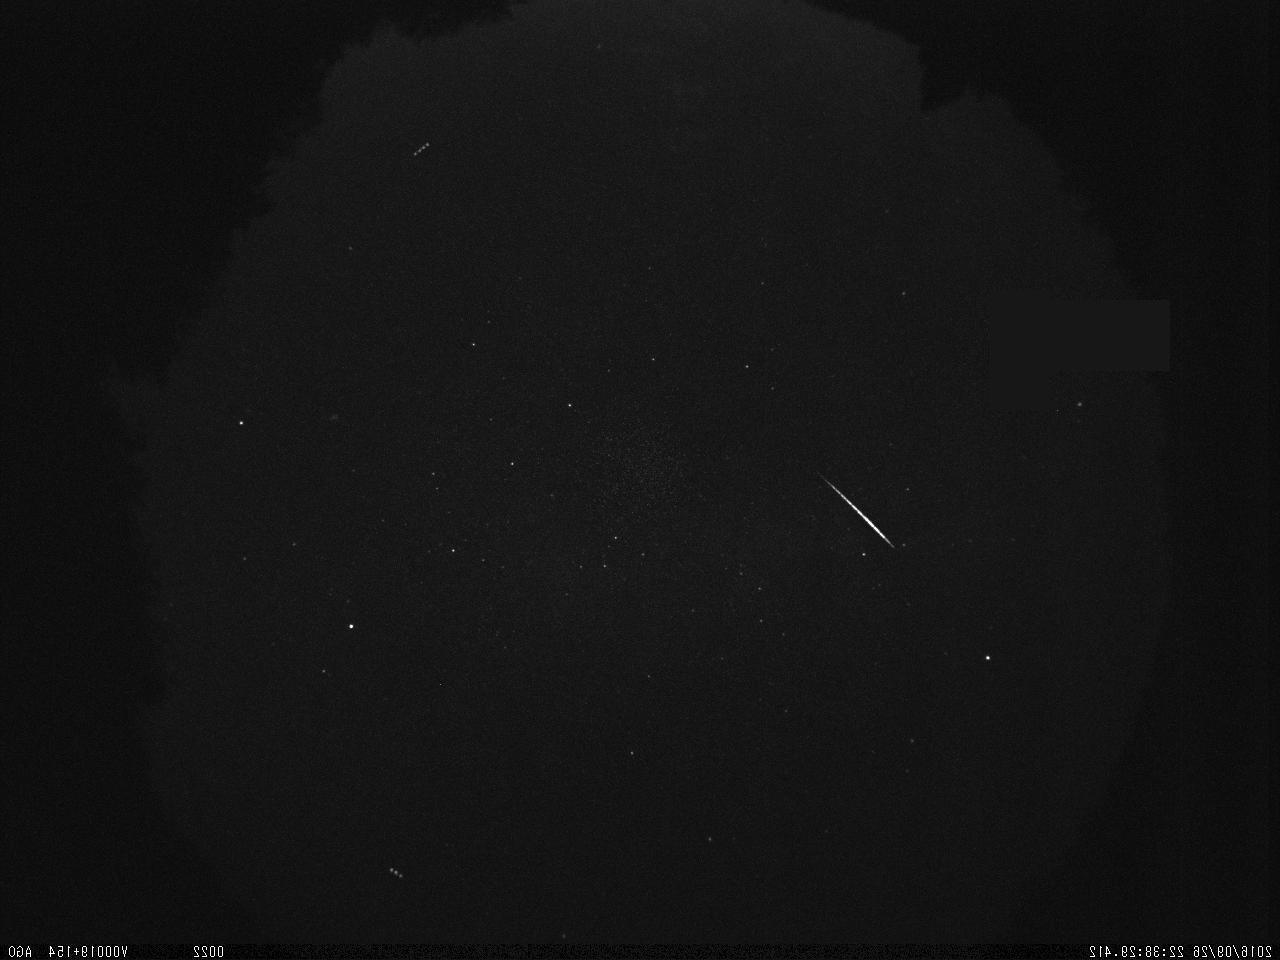meteor: (811, 469, 912, 554)
